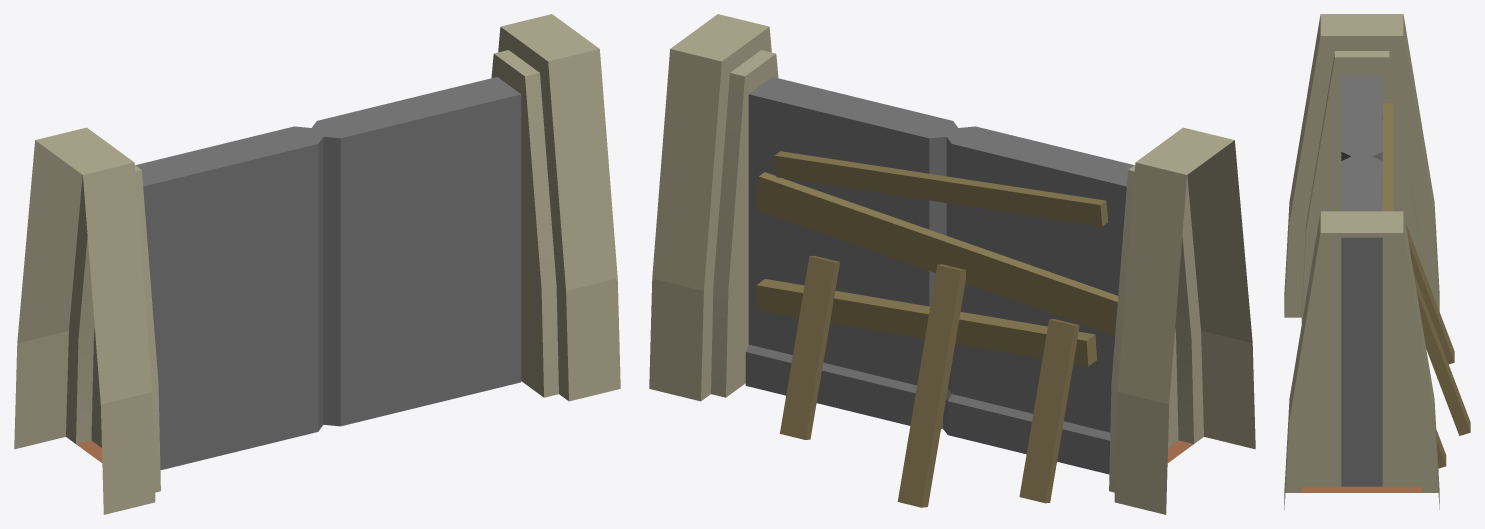
Rendered from gate_01.fbx.
3 renders of one model, left to right at view 1: azimuth 30°, elevation 25°; view 2: azimuth 150°, elevation 25°; view 3: azimuth 270°, elevation 25°, orthographic. The views are drawn at different scales.
Parts seen in each view (by area): view 1: gate_01; view 2: gate_01; view 3: gate_01.
Part boxes in pixels (x1,y1,x2,y2): gate_01: [14, 14, 620, 514]; gate_01: [649, 14, 1255, 514]; gate_01: [1284, 14, 1470, 510].
Size of the model in its own units: 10 by 6.72 by 3.6.
